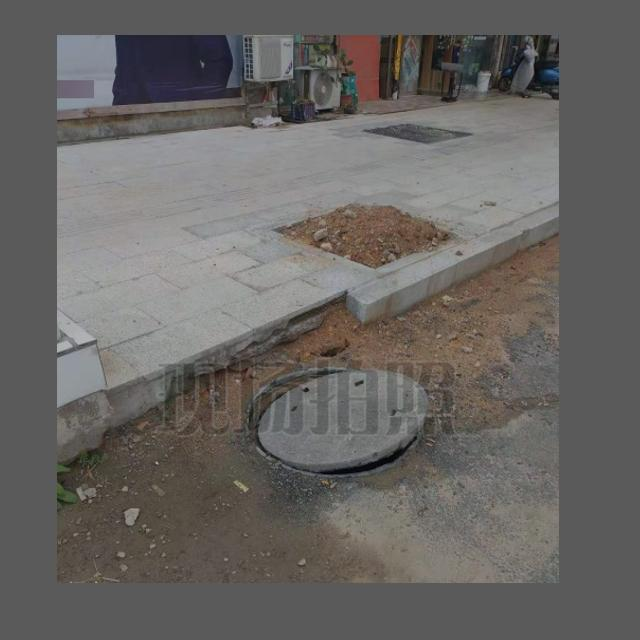uncovered: (244, 364, 427, 477)
